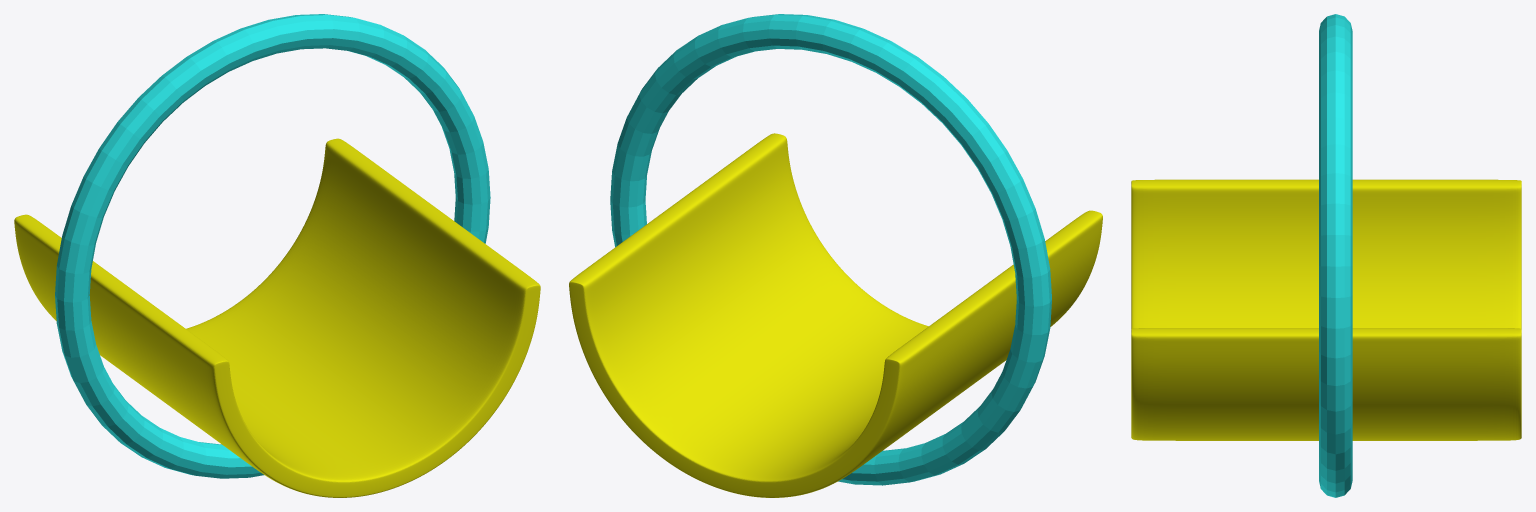
File: half pipe accel.fbx
3 renders of one model, left to right at view 1: azimuth 30°, elevation 25°; view 2: azimuth 150°, elevation 25°; view 3: azimuth 270°, elevation 25°, orthographic. The views are drawn at different scales.
Parts seen in each view (by area): view 1: Cylinder, Torus; view 2: Cylinder, Torus; view 3: Cylinder, Torus.
Part boxes in pixels (x1,y1,x2,y2): Cylinder: [14, 138, 540, 497]; Torus: [55, 14, 490, 478]; Cylinder: [569, 133, 1102, 497]; Torus: [610, 14, 1051, 485]; Cylinder: [1131, 179, 1521, 440]; Torus: [1319, 14, 1352, 497].
Bounding box in the file's own units: 130 × 130 × 105.
